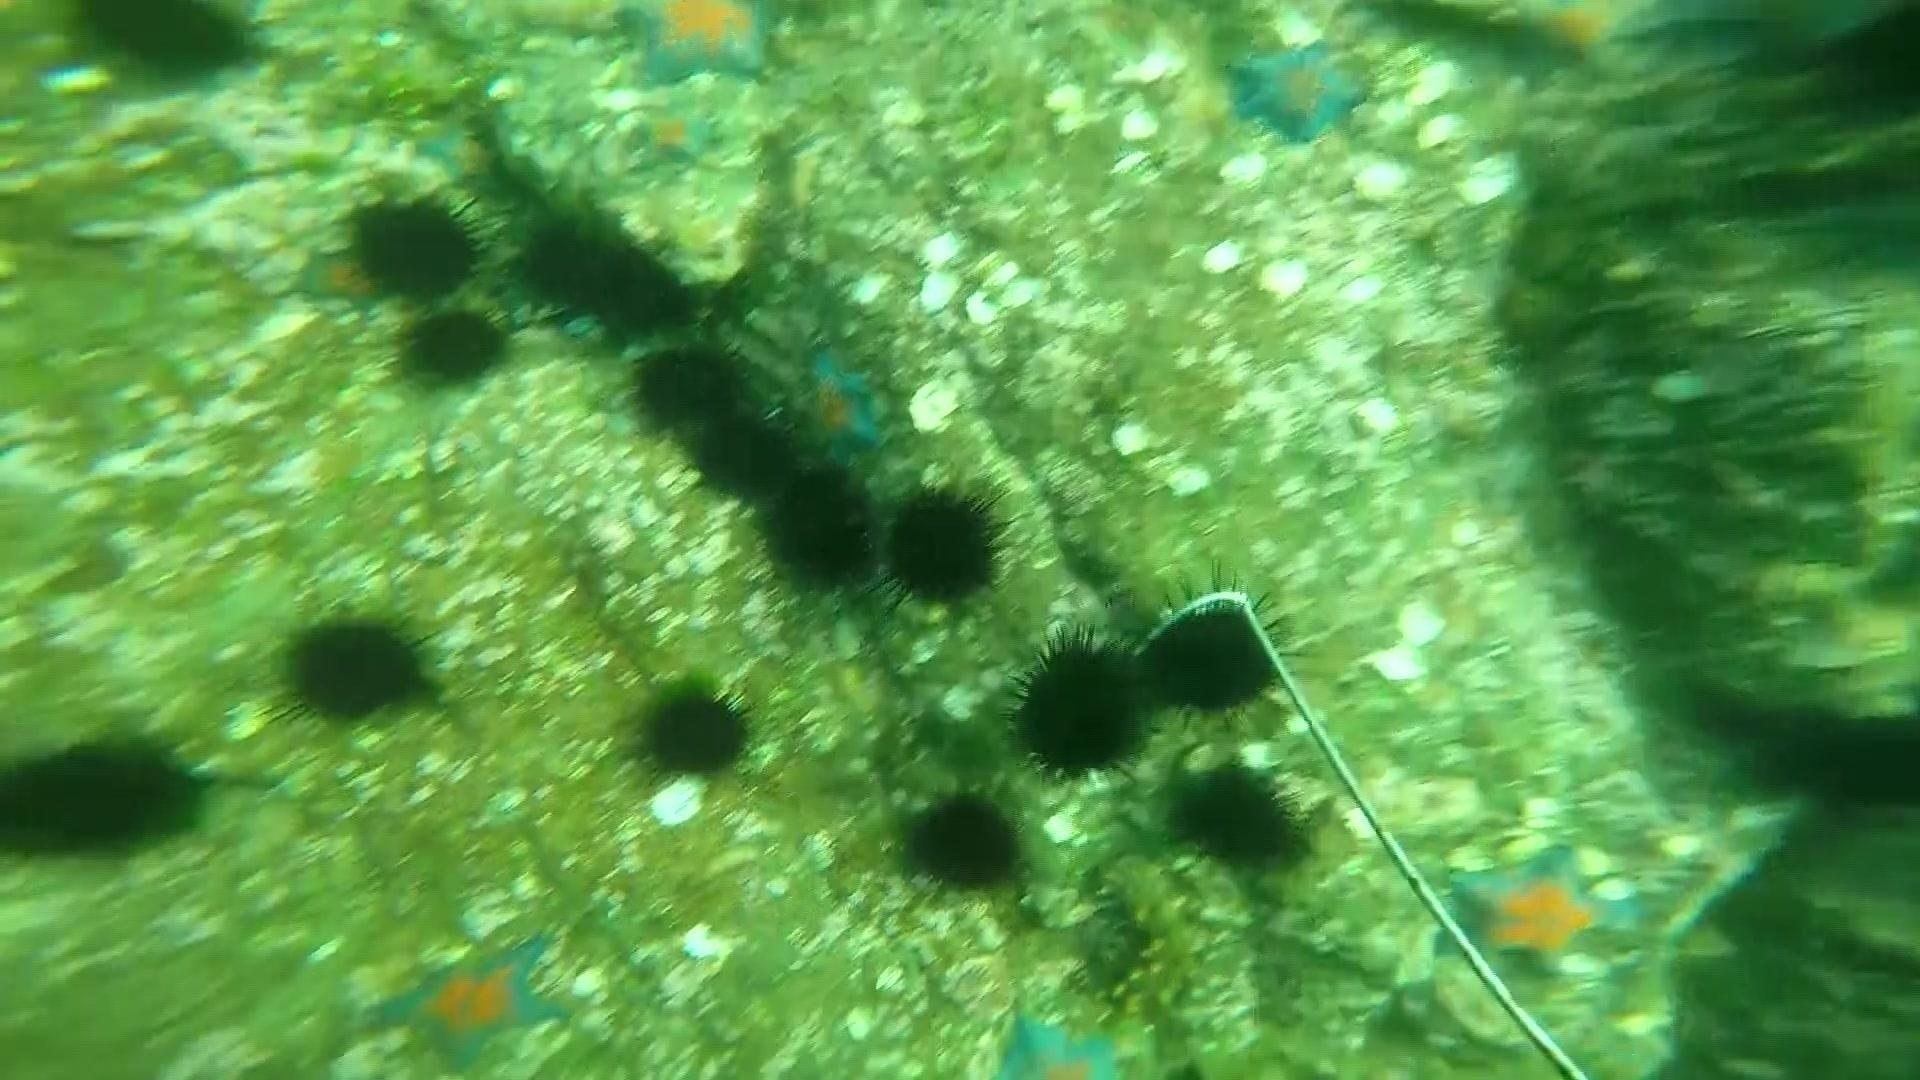echinus: (3, 724, 215, 864), (1004, 630, 1153, 785), (269, 607, 440, 731), (1745, 702, 1919, 822), (1134, 589, 1290, 721), (58, 3, 266, 92), (877, 479, 1011, 612), (1162, 757, 1311, 876), (342, 189, 488, 305), (894, 783, 1029, 898), (756, 465, 878, 589), (625, 673, 757, 785), (624, 338, 752, 433), (1822, 3, 1919, 127), (679, 404, 796, 502), (513, 212, 624, 315), (392, 302, 514, 392), (595, 236, 698, 338)
holothurian: (1092, 851, 1215, 1019)
starfish: (1437, 841, 1648, 984), (373, 928, 568, 1073), (1226, 40, 1370, 148), (616, 1, 785, 91), (785, 343, 893, 468), (1486, 3, 1658, 80), (994, 1005, 1135, 1073), (624, 102, 721, 174), (405, 116, 495, 189), (293, 247, 386, 314)
